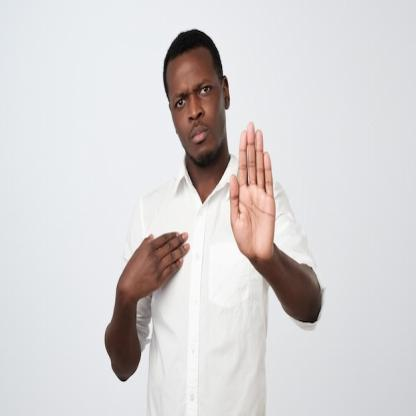stop: (226, 119, 278, 263)
